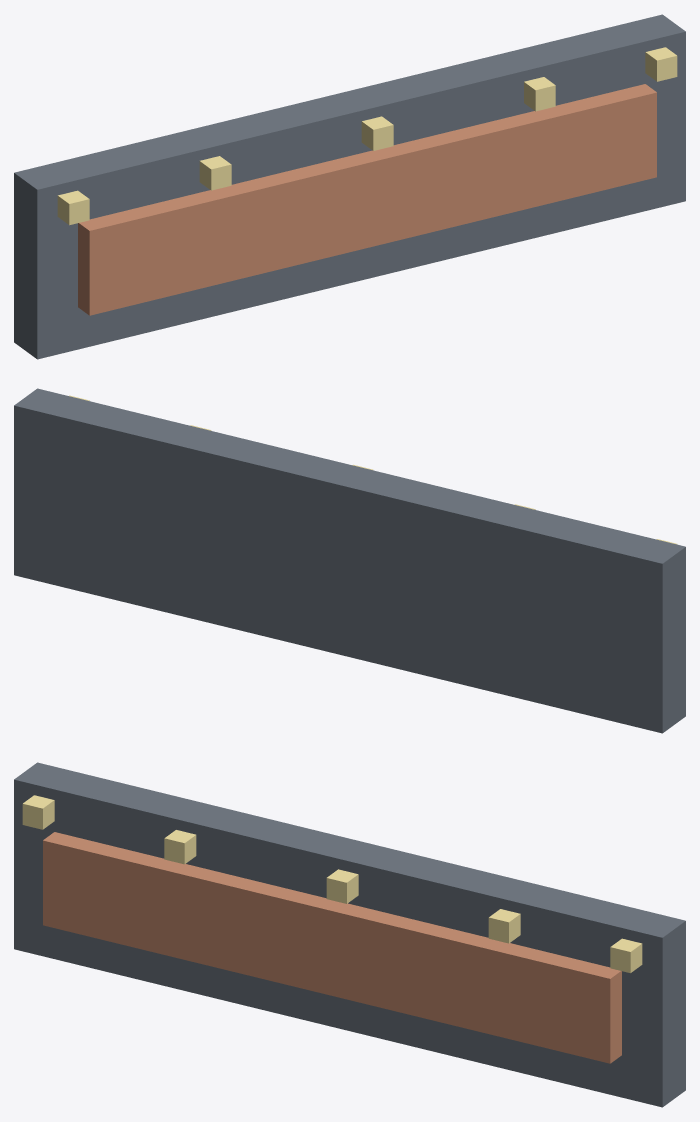
File: kit_arcade_sign.glb
3 renders of one model, top to bottom at view 1: azimuth 30°, elevation 25°; view 2: azimuth 150°, elevation 25°; view 3: azimuth 330°, elevation 25°, orthographic.
Visible parts, largest first — view 1: kit_arcade_sign-col; view 2: kit_arcade_sign-col; view 3: kit_arcade_sign-col.
Part boxes in pixels (x1,y1,x2,y2): kit_arcade_sign-col: [14, 14, 685, 359]; kit_arcade_sign-col: [14, 388, 685, 733]; kit_arcade_sign-col: [14, 762, 685, 1107].
Size of the model in its own units: 4 by 1 by 0.375.
